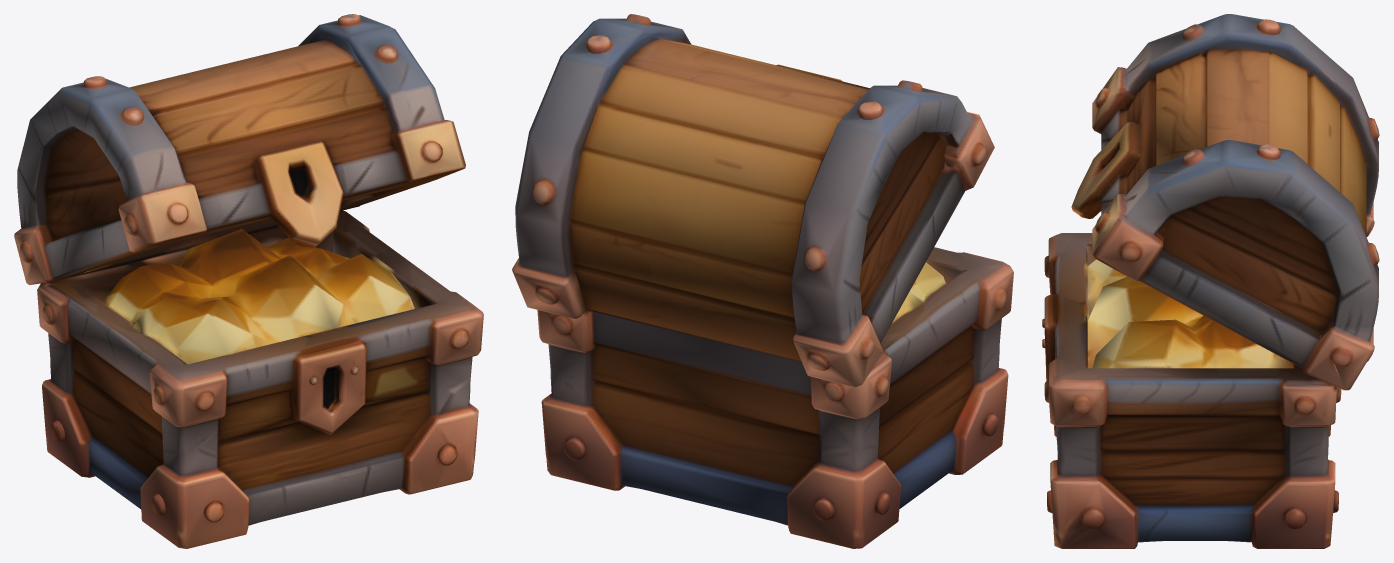
The model's file is chest.glb.
3 renders of one model, left to right at view 1: azimuth 30°, elevation 25°; view 2: azimuth 150°, elevation 25°; view 3: azimuth 270°, elevation 25°, orthographic. The views are drawn at different scales.
Visible parts, largest first — view 1: material; view 2: material; view 3: material.
Part boxes in pixels (x1=…): material: x1=14, y1=14, x2=483, y2=548; material: x1=512, y1=14, x2=1013, y2=548; material: x1=1042, y1=14, x2=1379, y2=548.
Bounding box in the file's own units: 1.65 × 1.9 × 1.47.
1 material, 1 textured.
